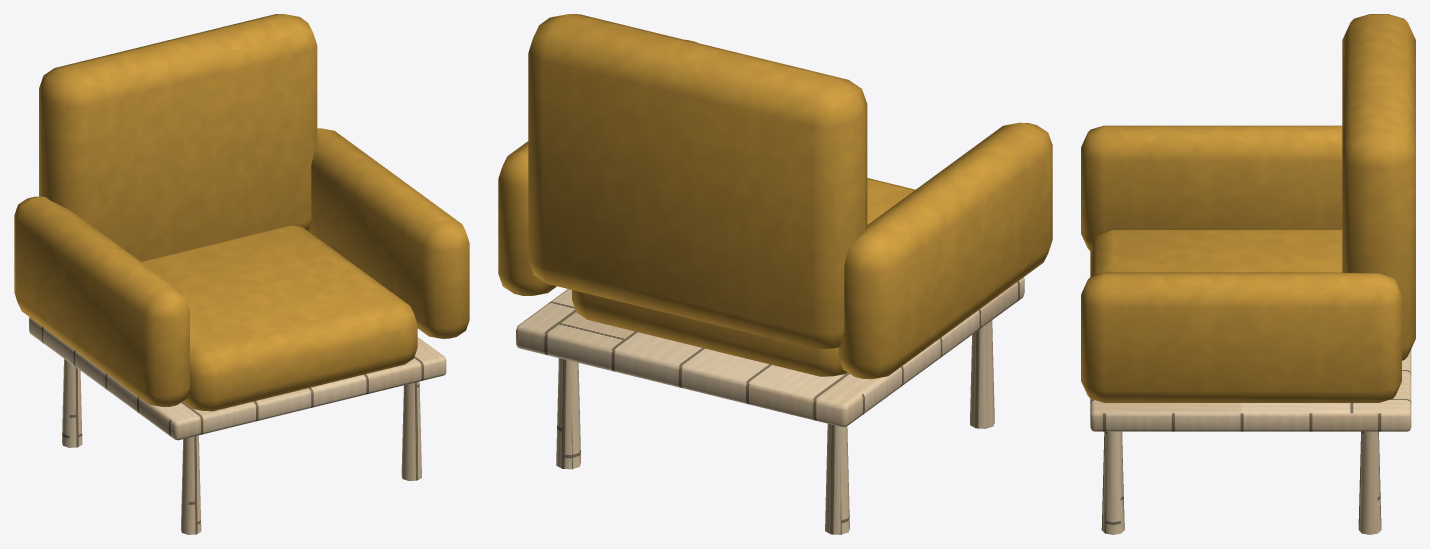
3 views of the same model, side by side, from view 1: azimuth 30°, elevation 25°; view 2: azimuth 150°, elevation 25°; view 3: azimuth 270°, elevation 25° (orthographic). The views are drawn at different scales.
Parts seen in each view (by area): view 1: Decor_armchair_lounge; view 2: Decor_armchair_lounge; view 3: Decor_armchair_lounge.
Boxes of the visible parts, x1,y1,x2,y2 form: Decor_armchair_lounge: (14, 14, 469, 534); Decor_armchair_lounge: (498, 14, 1052, 534); Decor_armchair_lounge: (1081, 14, 1415, 534).
Size of the model in its own units: 0.88 by 0.96 by 0.73.
2 materials, 2 textured.
